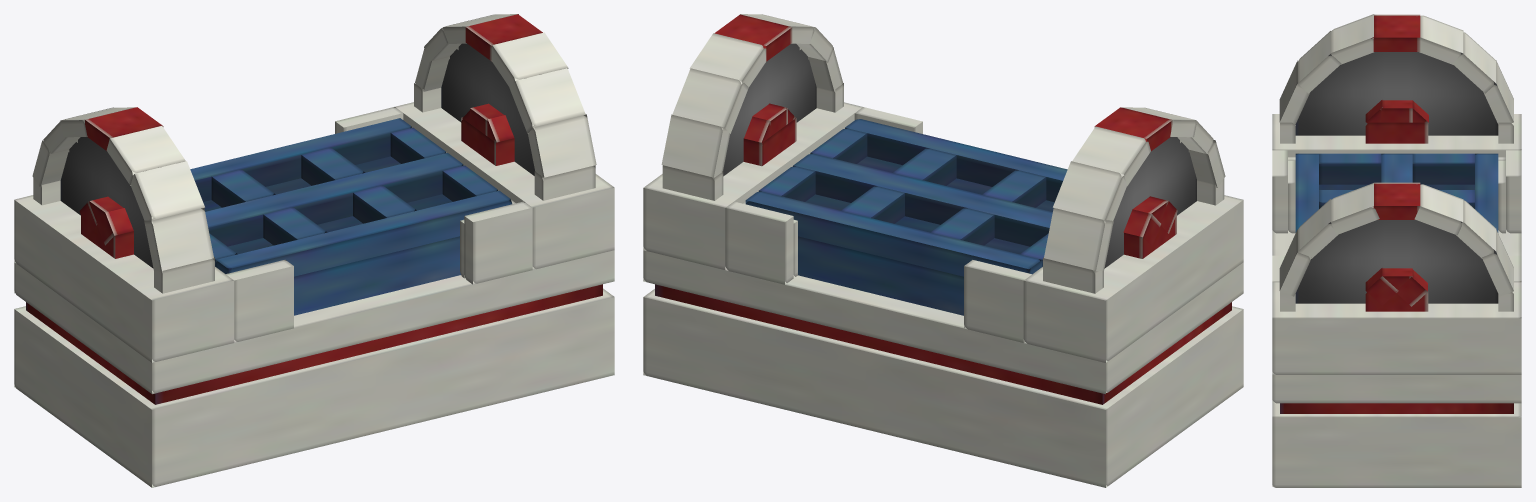
Rendered from camilla.obj.
The picture shows the model from 3 angles, left to right: view 1: azimuth 30°, elevation 25°; view 2: azimuth 150°, elevation 25°; view 3: azimuth 270°, elevation 25°; orthographic projection. The views are drawn at different scales.
Parts seen in each view (by area): view 1: Element_1, Element_22, Element_15, Element_19, Element_16, Element_2, Element_3, Element_23, Element_4, Element_17, Element_13, Element_29 (+28 smaller); view 2: Element_1, Element_22, Element_15, Element_19, Element_16, Element_4, Element_3, Element_23, Element_2, Element_18, Element_14, Element_34 (+28 smaller); view 3: Element_1, Element_19, Element_22, Element_41, Element_61, Element_15, Element_23, Element_11, Element_9, Element_30, Element_53, Element_51 (+44 smaller).
Part boxes in pixels (bbox=[...]): Element_1: bbox=[14, 288, 614, 487]; Element_22: bbox=[14, 250, 614, 394]; Element_15: bbox=[14, 195, 234, 362]; Element_19: bbox=[394, 102, 614, 269]; Element_16: bbox=[203, 156, 460, 315]; Element_2: bbox=[215, 190, 512, 276]; Element_3: bbox=[205, 153, 463, 246]; Element_23: bbox=[26, 284, 602, 404]; Element_4: bbox=[190, 118, 411, 201]; Element_17: bbox=[464, 201, 532, 284]; Element_13: bbox=[226, 259, 293, 341]; Element_29: bbox=[144, 208, 213, 271]; Element_1: bbox=[643, 289, 1243, 487]; Element_22: bbox=[643, 249, 1243, 394]; Element_15: bbox=[1023, 195, 1243, 362]; Element_19: bbox=[643, 102, 862, 269]; Element_16: bbox=[798, 156, 1054, 315]; Element_4: bbox=[745, 191, 1041, 276]; Element_3: bbox=[793, 153, 1052, 246]; Element_23: bbox=[655, 284, 1231, 404]; Element_2: bbox=[845, 119, 1067, 202]; Element_18: bbox=[725, 201, 793, 284]; Element_14: bbox=[964, 260, 1031, 342]; Element_34: bbox=[1044, 208, 1113, 270]; Element_1: bbox=[1272, 403, 1521, 487]; Element_19: bbox=[1272, 282, 1521, 374]; Element_22: bbox=[1272, 230, 1521, 403]; Element_41: bbox=[1342, 37, 1451, 135]; Element_61: bbox=[1342, 220, 1451, 303]; Element_15: bbox=[1272, 114, 1521, 183]; Element_23: bbox=[1280, 403, 1513, 413]; Element_11: bbox=[1412, 153, 1474, 184]; Element_9: bbox=[1319, 153, 1381, 184]; Element_30: bbox=[1373, 14, 1420, 51]; Element_53: bbox=[1414, 184, 1463, 235]; Element_51: bbox=[1330, 183, 1379, 234].
Size of the model in its own units: 3.61 by 2.27 by 1.86.
1 material, 1 textured.
